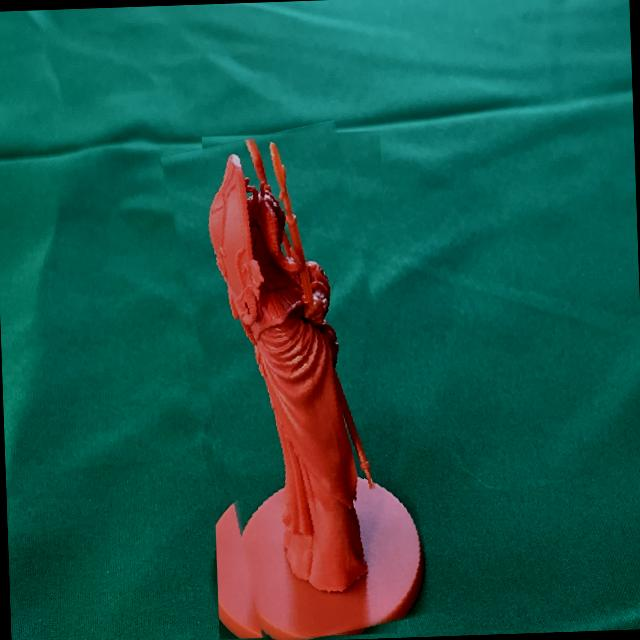amon: (180, 123, 418, 640)
